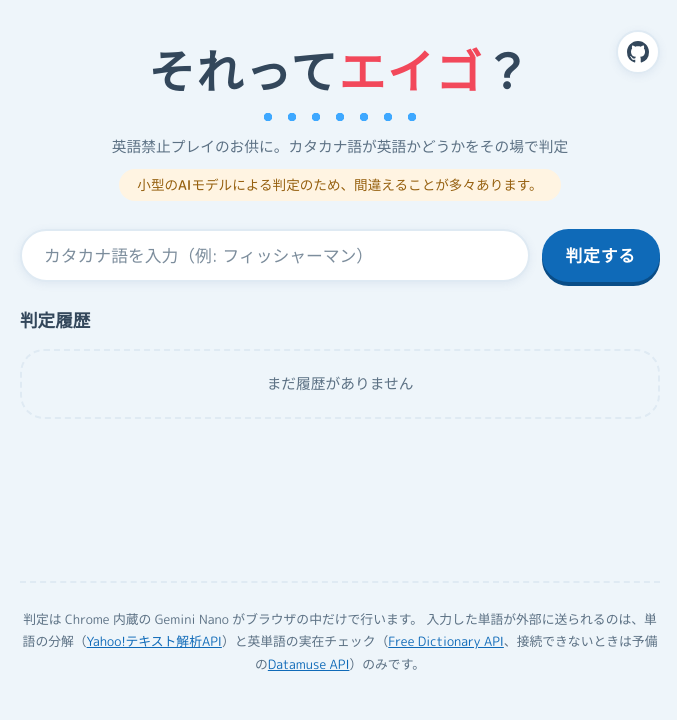
App › 例文の生成に失敗しても、それまでの途中結果とエラーを両方表示する
The image size is (677, 720).
Type "コントロール" into the field at (275, 256), box [20,229,530,282]
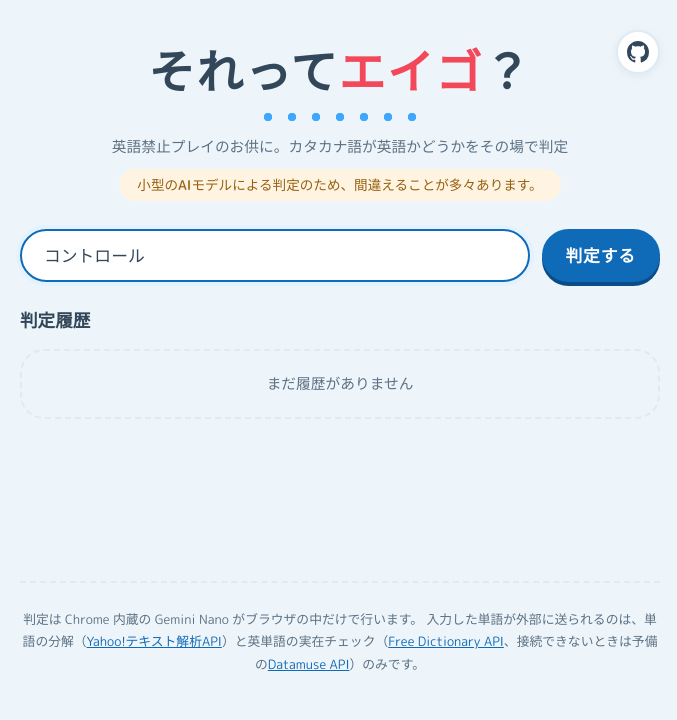
Click the button "判定する" at (601, 256), box [542,229,660,282]
(page scrolled)
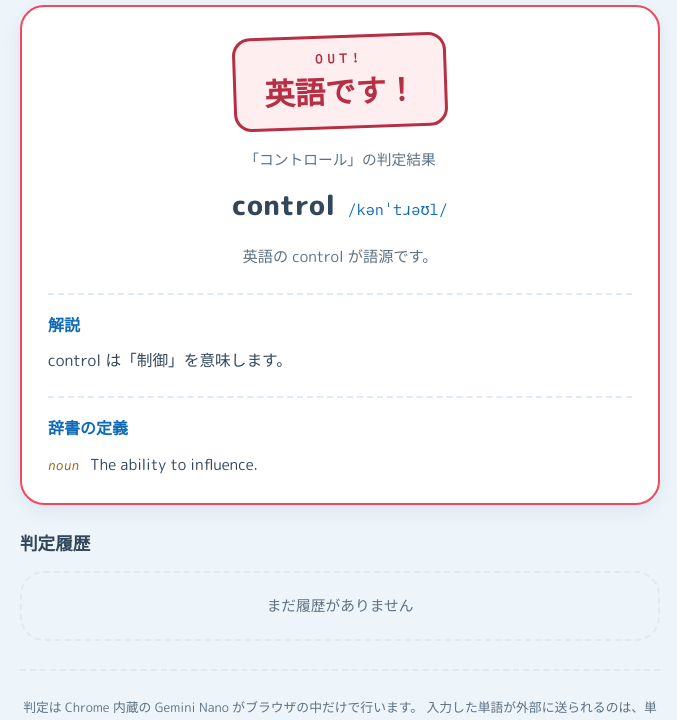
Check: the heading "英語です！" is shown, box [264,70,417,114]
Check: the text "control は「制御」を意味します。" is shown, box [48,349,292,371]
